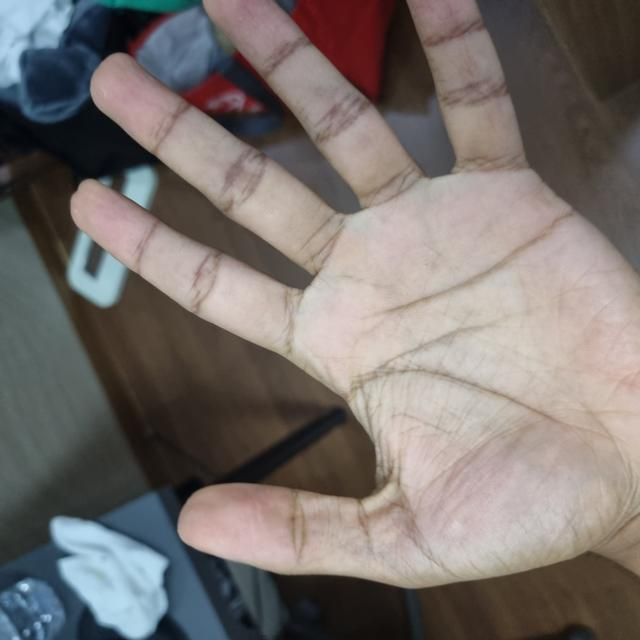Paper: (52, 34, 640, 639)
